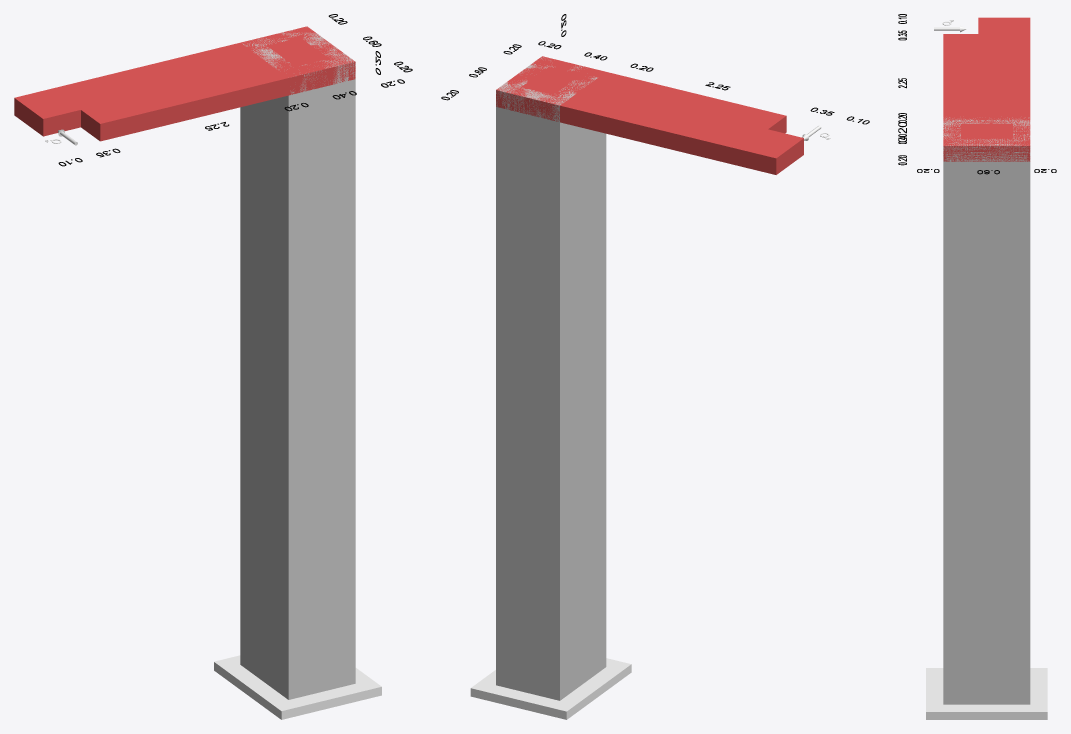
The model's file is Balken.gltf.
The picture shows the model from 3 angles, left to right: view 1: azimuth 30°, elevation 25°; view 2: azimuth 150°, elevation 25°; view 3: azimuth 270°, elevation 25°; orthographic projection. The views are drawn at different scales.
Parts seen in each view (by area): view 1: Model (×3); view 2: Model (×3); view 3: Model (×3).
Part boxes in pixels (<box>): Model (×3): <box>14,26,381,719</box>; Model (×3): <box>470,56,803,719</box>; Model (×3): <box>926,17,1047,719</box>.
Bounding box in the file's own units: 436 × 750 × 183.
